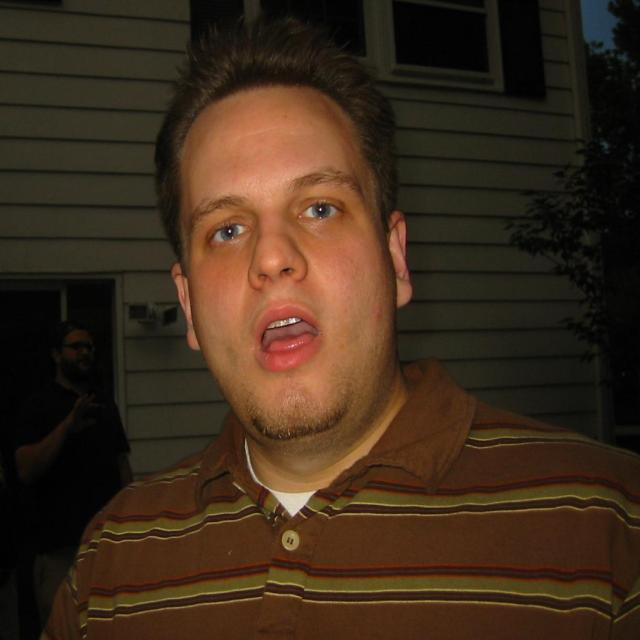no-glass: (198, 188, 349, 254)
